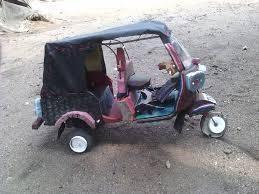keke: (24, 22, 222, 164)
